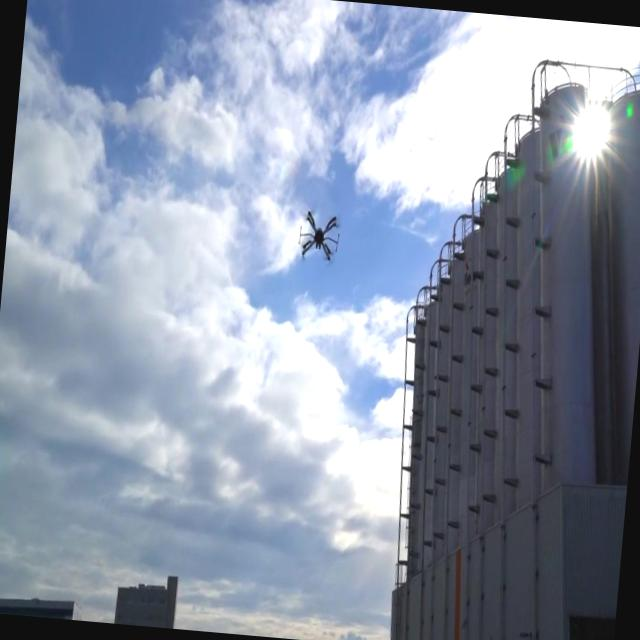drone: (294, 208, 341, 262)
